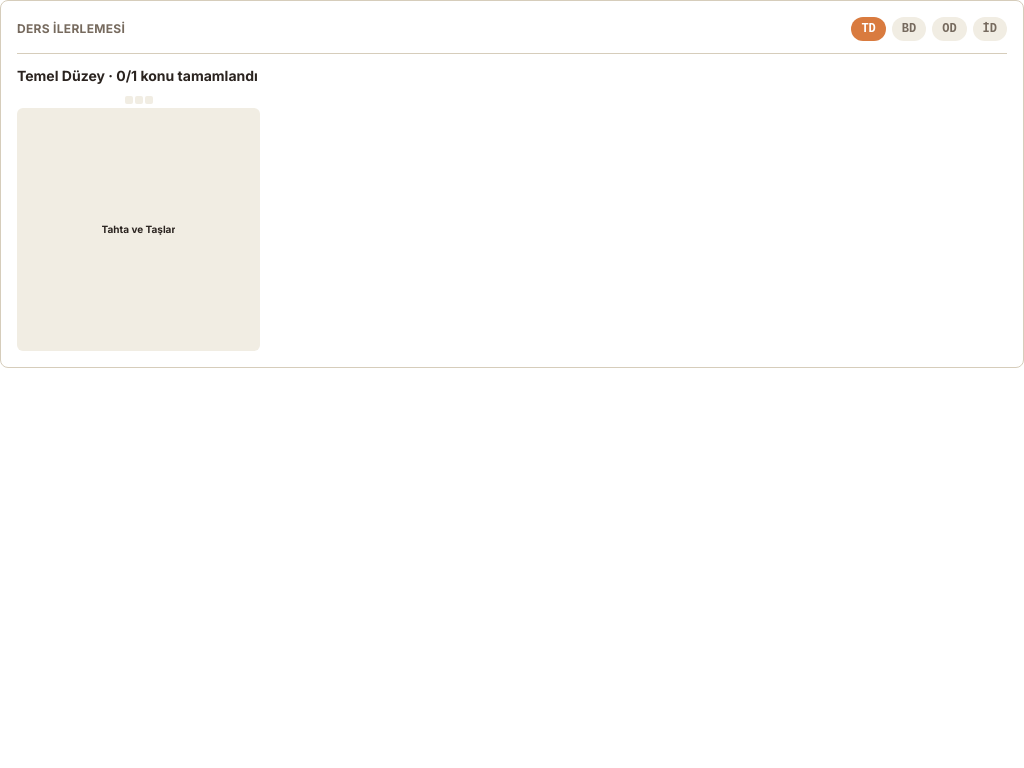
LessonProgressCard — Sporcu Profili Ders İlerlemesi + Ödevlerim (madde 2026-09-05) › madde 2026-09-06 (Görsel 7): "Kendini Test Et" seçilince Sınav-N sekmeleri ve soru bazlı kareler gösterilir
Click the button with aria-label "1. konu: Tahta ve Taşlar".
click(138, 230)  # box [17,108,260,351]
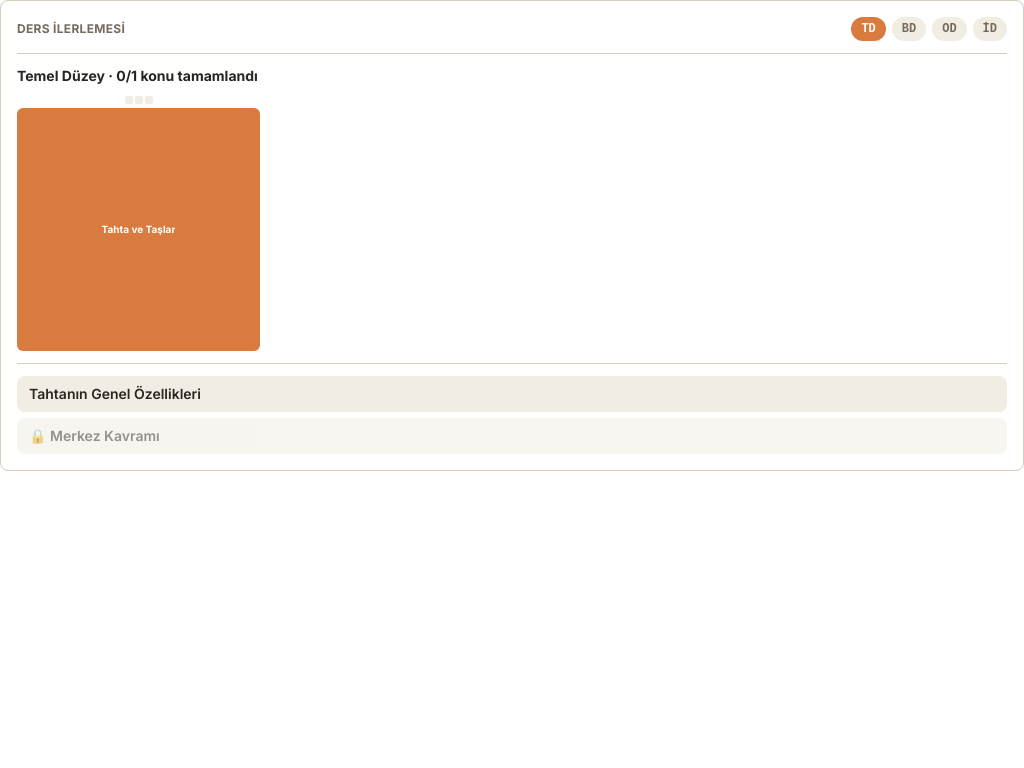
Result: the button "Tahtanın Genel Özellikleri" is shown
Click the button "Tahtanın Genel Özellikleri".
click(115, 394)  # box [17,376,1007,412]
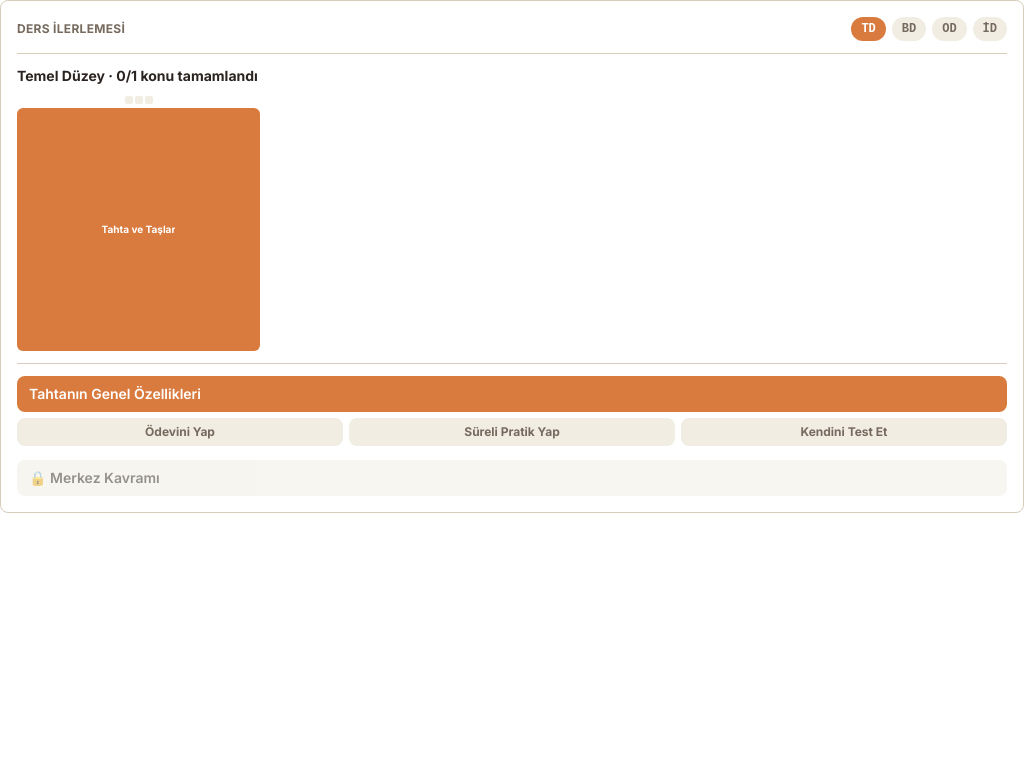
Click the button "Kendini Test Et".
click(844, 432)  # box [681,418,1007,446]
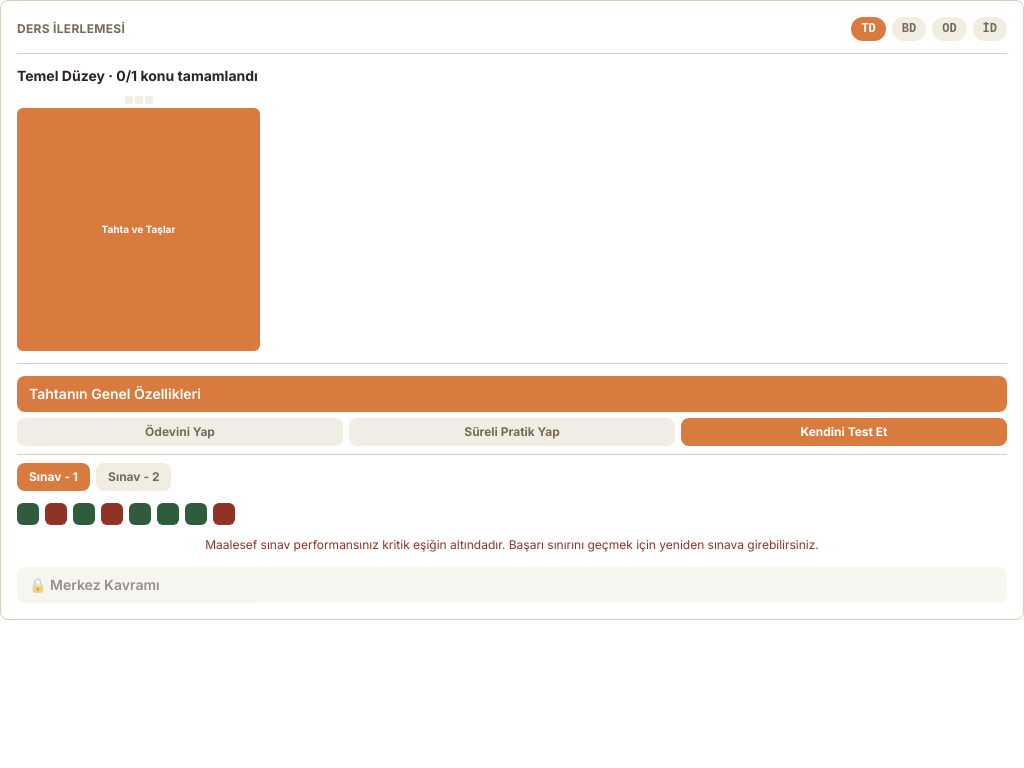
Result: the button "Sınav - 1" is shown at [17,463,90,491]
Result: the button "Sınav - 2" is shown
Result: the text "kritik eşiğin altındadır" is shown at [205,537,819,552]
// Sınav-2'ye geçilince (8/8, %100) başarı mesajı gösterilir.
Click the button "Sınav - 2".
click(134, 477)  # box [96,463,171,491]
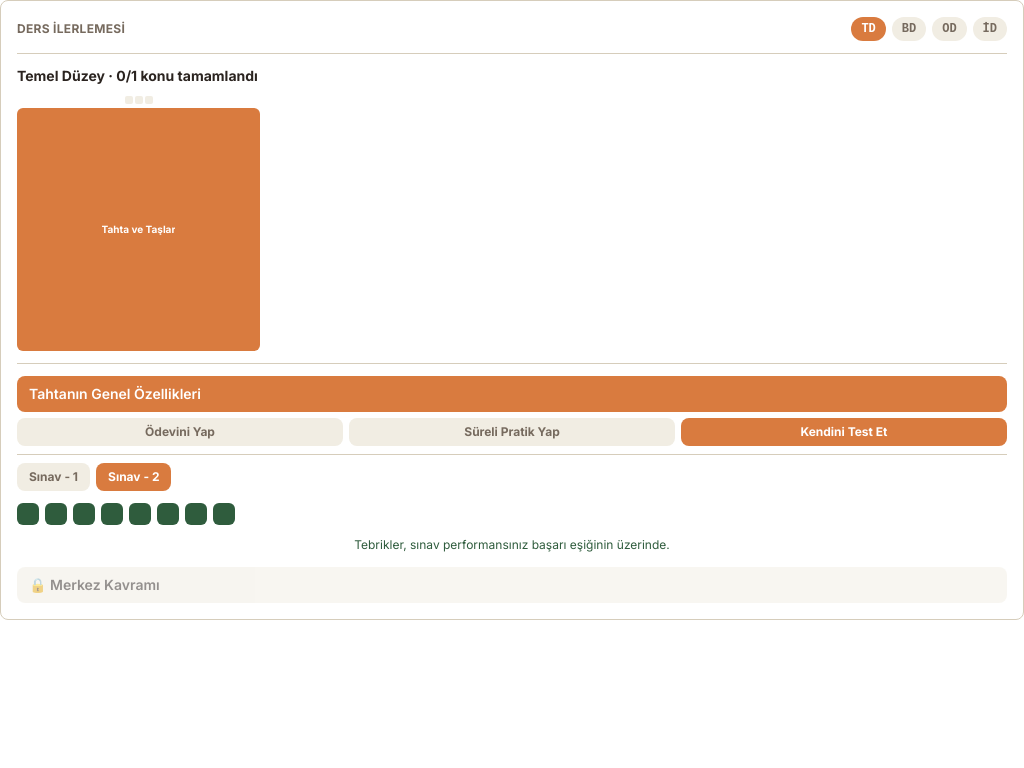
Result: the text "Tebrikler, sınav performansınız başarı eşiğinin üzerinde." is shown at [354,537,670,552]
